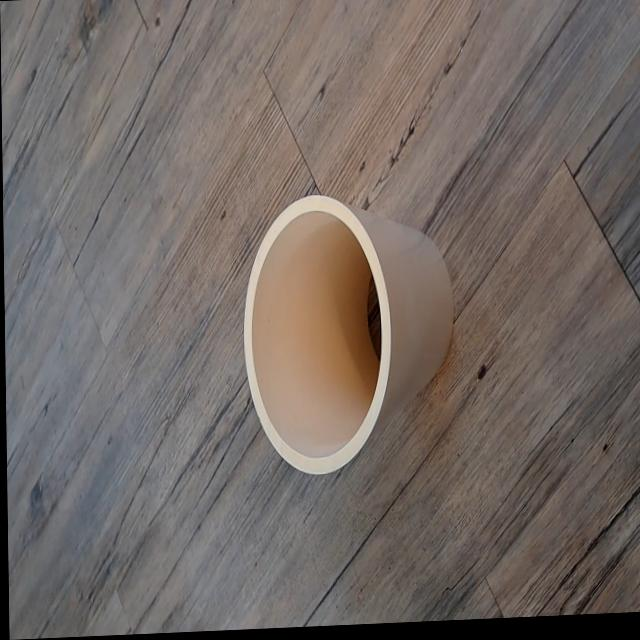CORAL: (225, 153, 482, 523)
